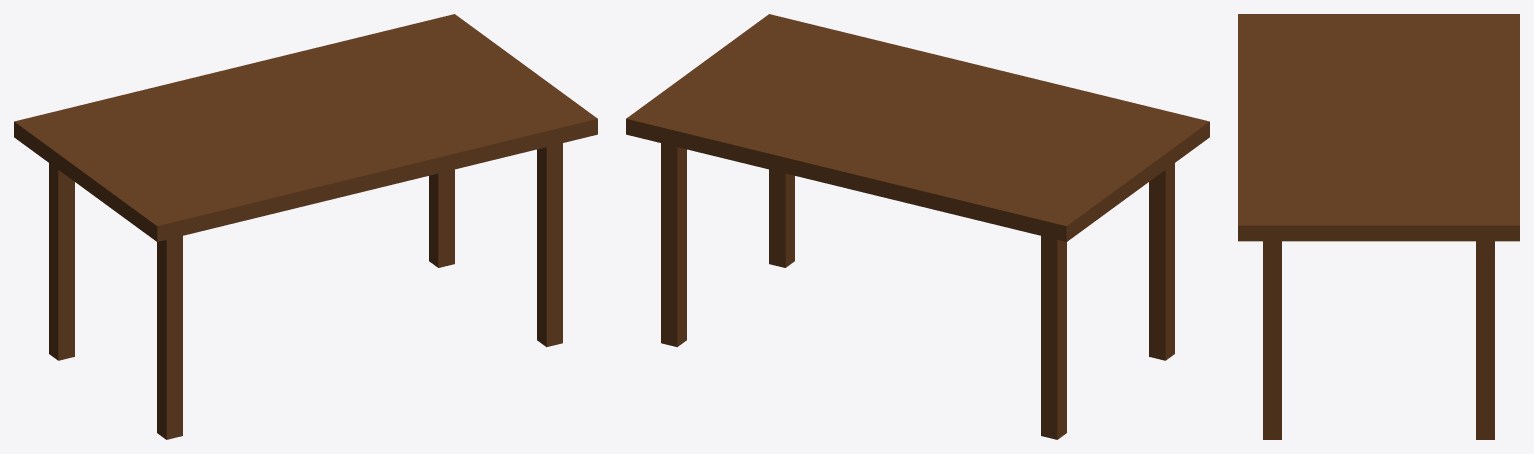
Rendered from dining_table.glb.
3 renders of one model, left to right at view 1: azimuth 30°, elevation 25°; view 2: azimuth 150°, elevation 25°; view 3: azimuth 270°, elevation 25°, orthographic.
Parts seen in each view (by area): view 1: Top, Leg-11, Leg11, Leg-1-1, Leg1-1; view 2: Top, Leg-1-1, Leg1-1, Leg-11, Leg11; view 3: Top, Leg1-1, Leg11.
Part boxes in pixels (bbox=[...]): Top: bbox=[14, 14, 597, 241]; Leg-11: bbox=[157, 236, 182, 439]; Leg11: bbox=[537, 143, 562, 347]; Leg-1-1: bbox=[49, 163, 74, 360]; Leg1-1: bbox=[429, 169, 454, 267]; Top: bbox=[626, 14, 1209, 241]; Leg-1-1: bbox=[1041, 236, 1066, 439]; Leg1-1: bbox=[661, 143, 686, 347]; Leg-11: bbox=[1149, 163, 1174, 360]; Leg11: bbox=[769, 169, 794, 267]; Top: bbox=[1238, 14, 1519, 241]; Leg1-1: bbox=[1476, 241, 1494, 439]; Leg11: bbox=[1263, 241, 1281, 439].
Bounding box in the file's own units: 1.6 × 0.7925 × 0.9.
